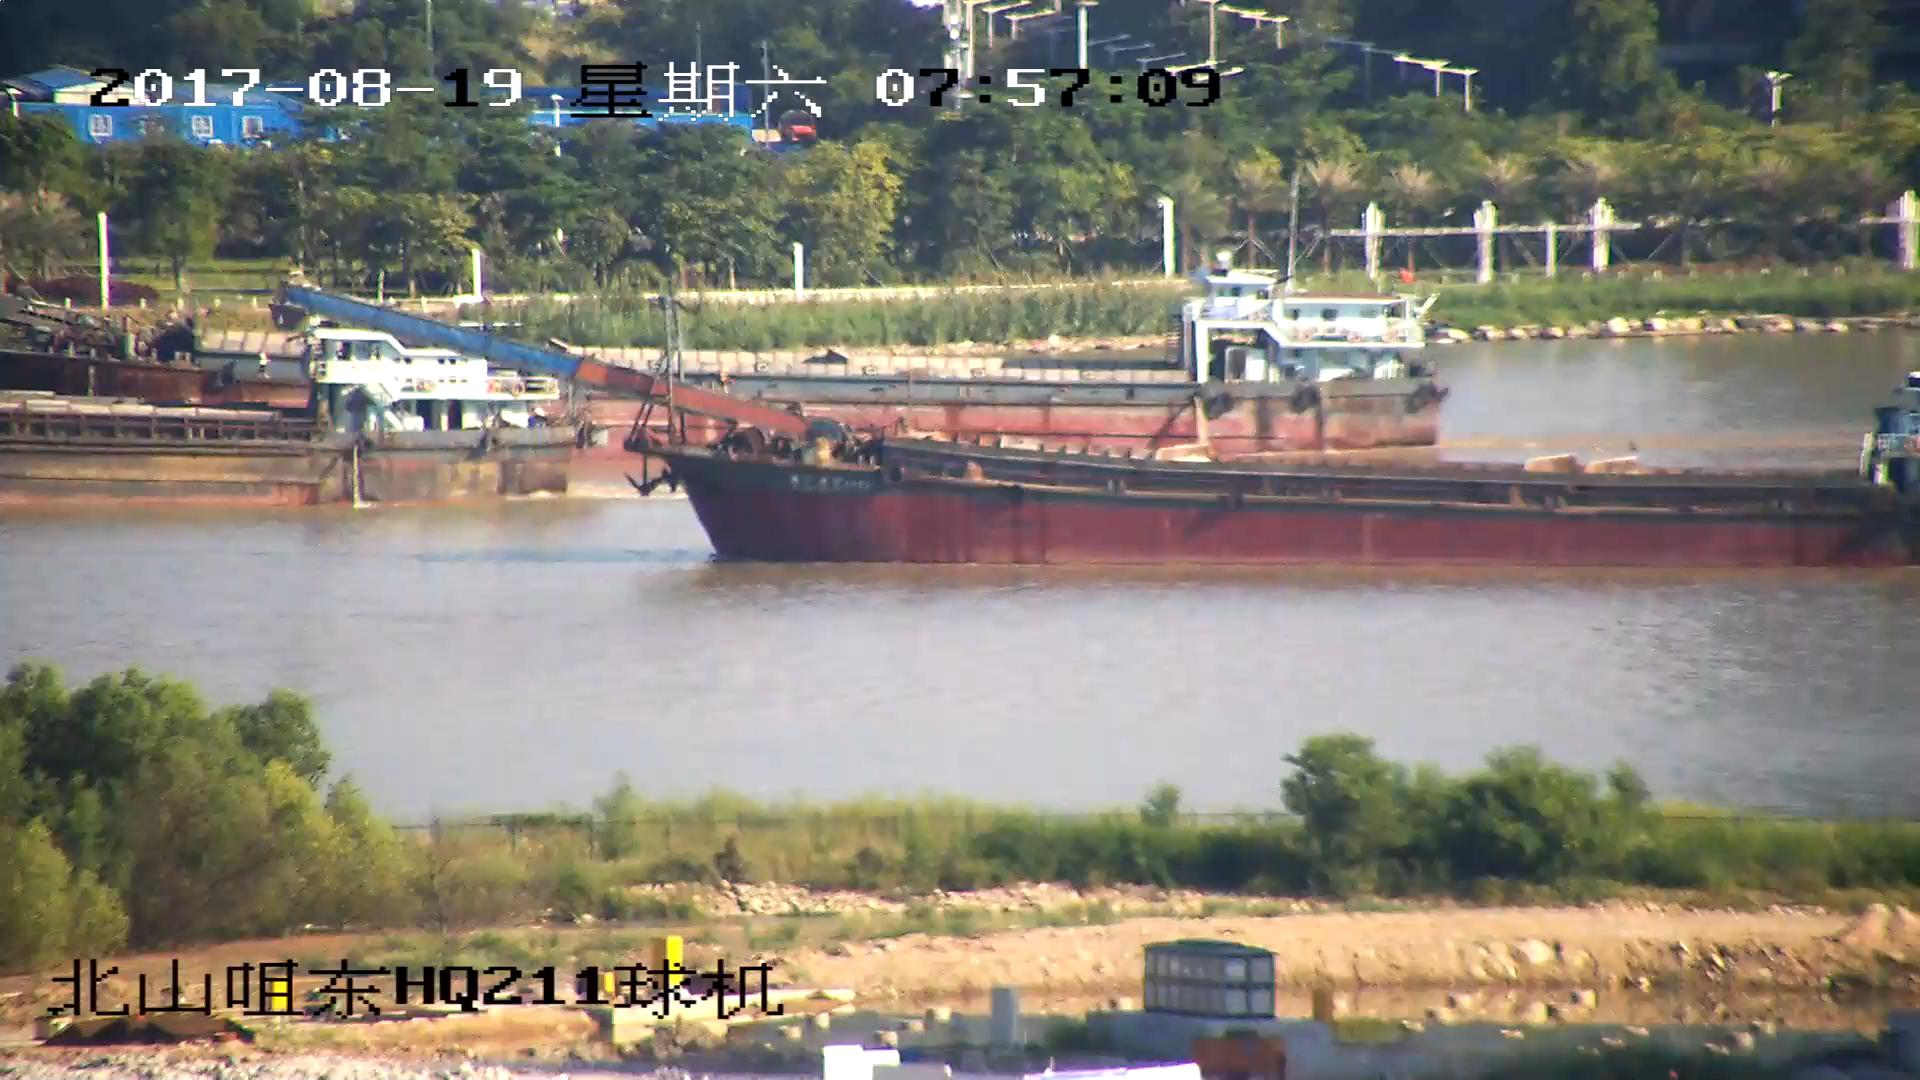bulk cargo carrier: (284, 283, 1920, 572), (127, 276, 1447, 445), (1, 373, 575, 516)
